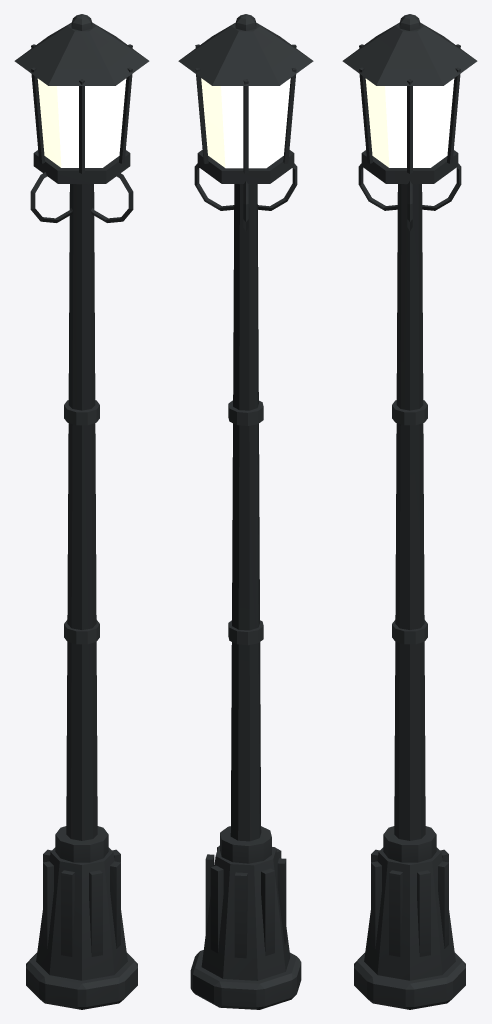
File: street_lamp.glb
The picture shows the model from 3 angles, left to right: view 1: azimuth 90°, elevation 25°; view 2: azimuth 150°, elevation 25°; view 3: azimuth 270°, elevation 25°; orthographic projection.
Parts seen in each view (by area): view 1: street_lamp; view 2: street_lamp; view 3: street_lamp.
Boxes of the visible parts, left/top/right/bottom form: street_lamp: left=14, top=14, right=149, bottom=1009; street_lamp: left=178, top=14, right=313, bottom=1009; street_lamp: left=342, top=14, right=477, bottom=1009.
Bounding box in the file's own units: 0.488 × 4.44 × 0.56.
